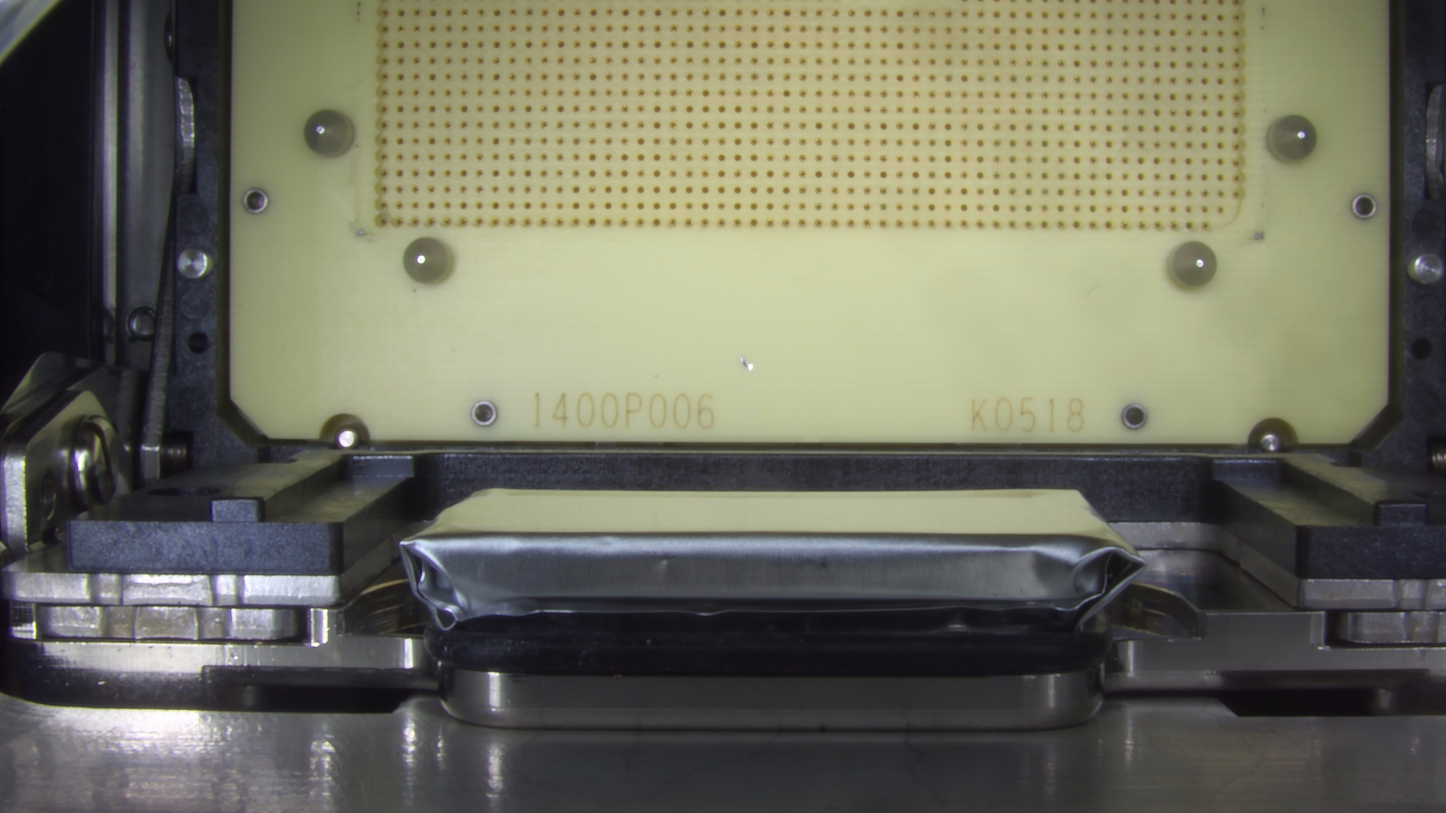normal: (392, 479, 1153, 666)
